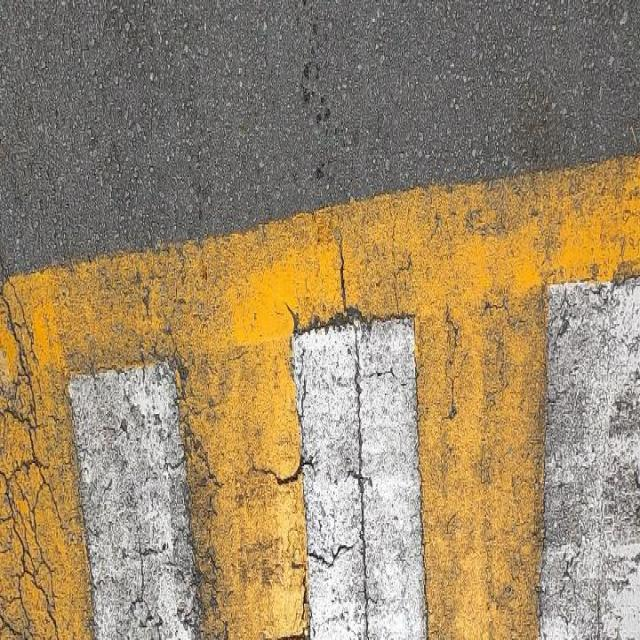cracks: (0, 278, 640, 640)
